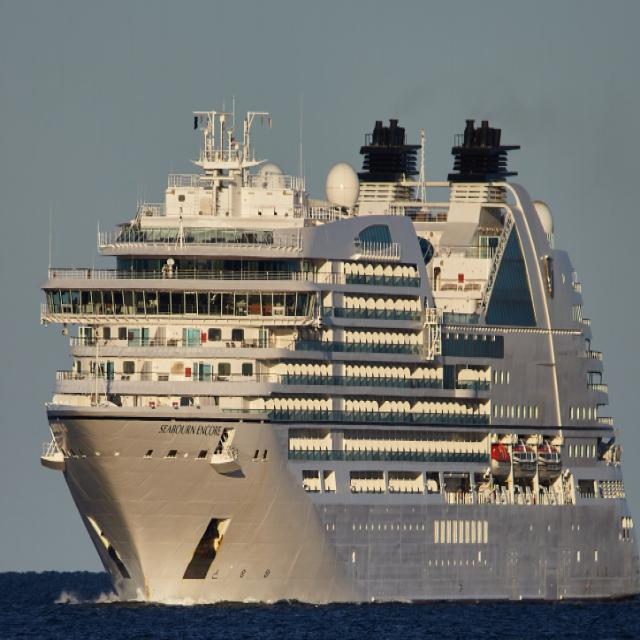cruises: (32, 90, 640, 610)
